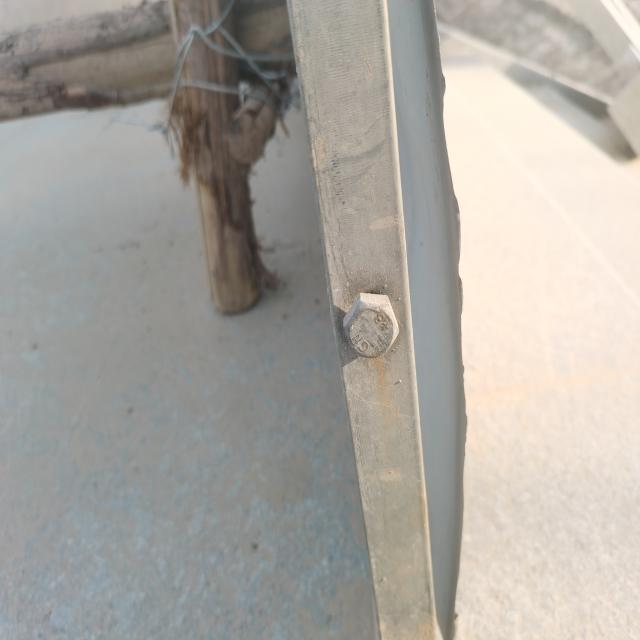bolt head: (341, 289, 401, 361)
